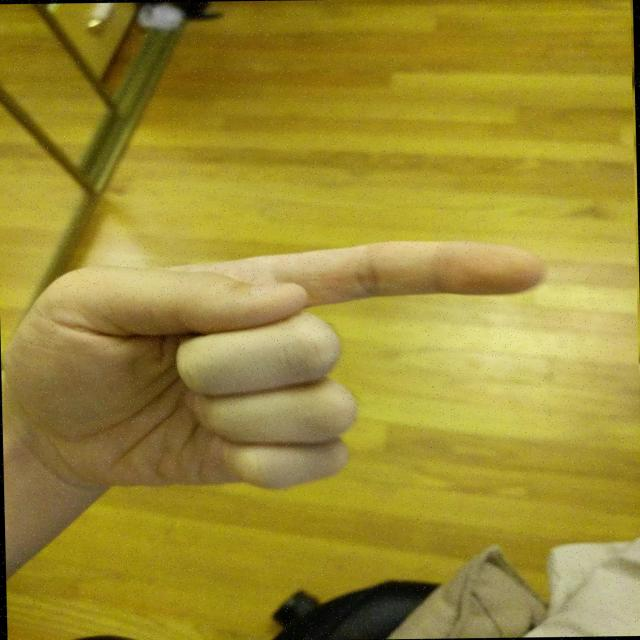G: (0, 232, 563, 500)
